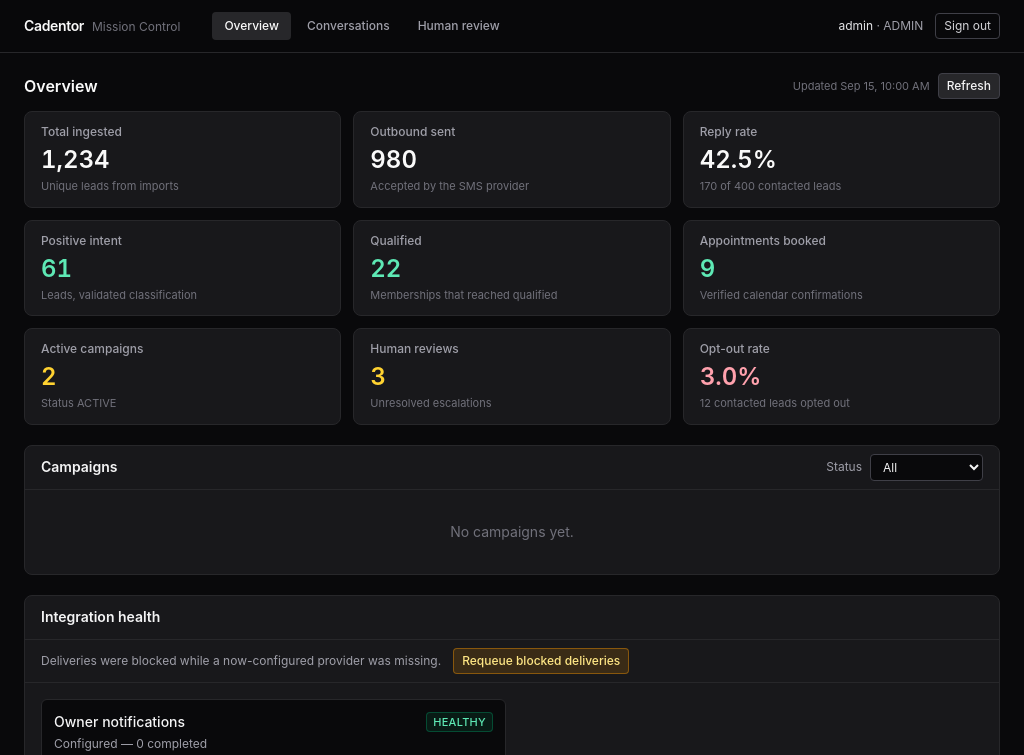
Test case: Mission Control overview › offers blocked-delivery recovery only to ADMIN operators, with confirmation
Click the button "Requeue blocked deliveries": coordinates (541, 660) [453,648,629,674]
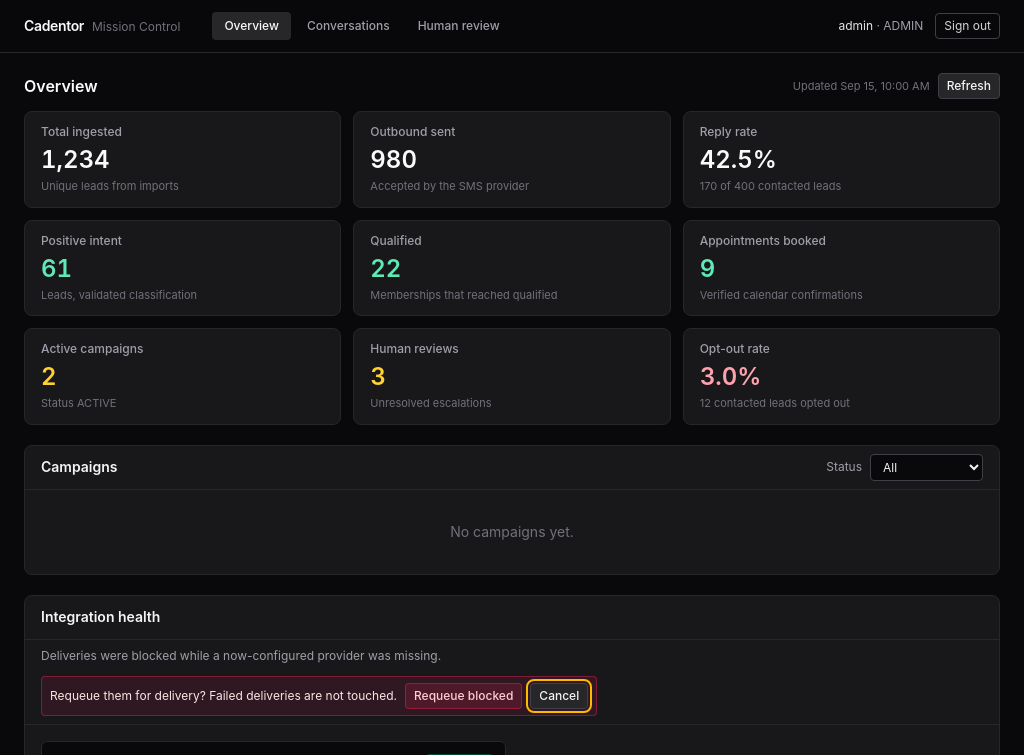
Click the button "Requeue blocked": coordinates (464, 696) [405,682,522,708]
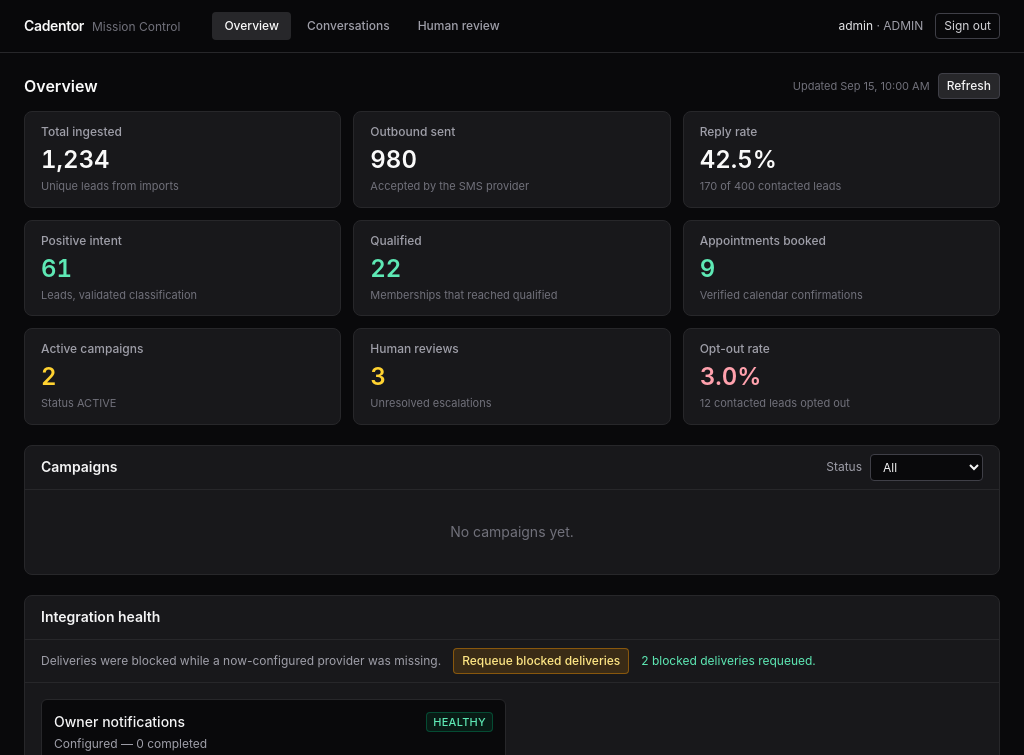
Expected: the text "2 blocked deliveries requeued." is shown, [641,652,816,668]
